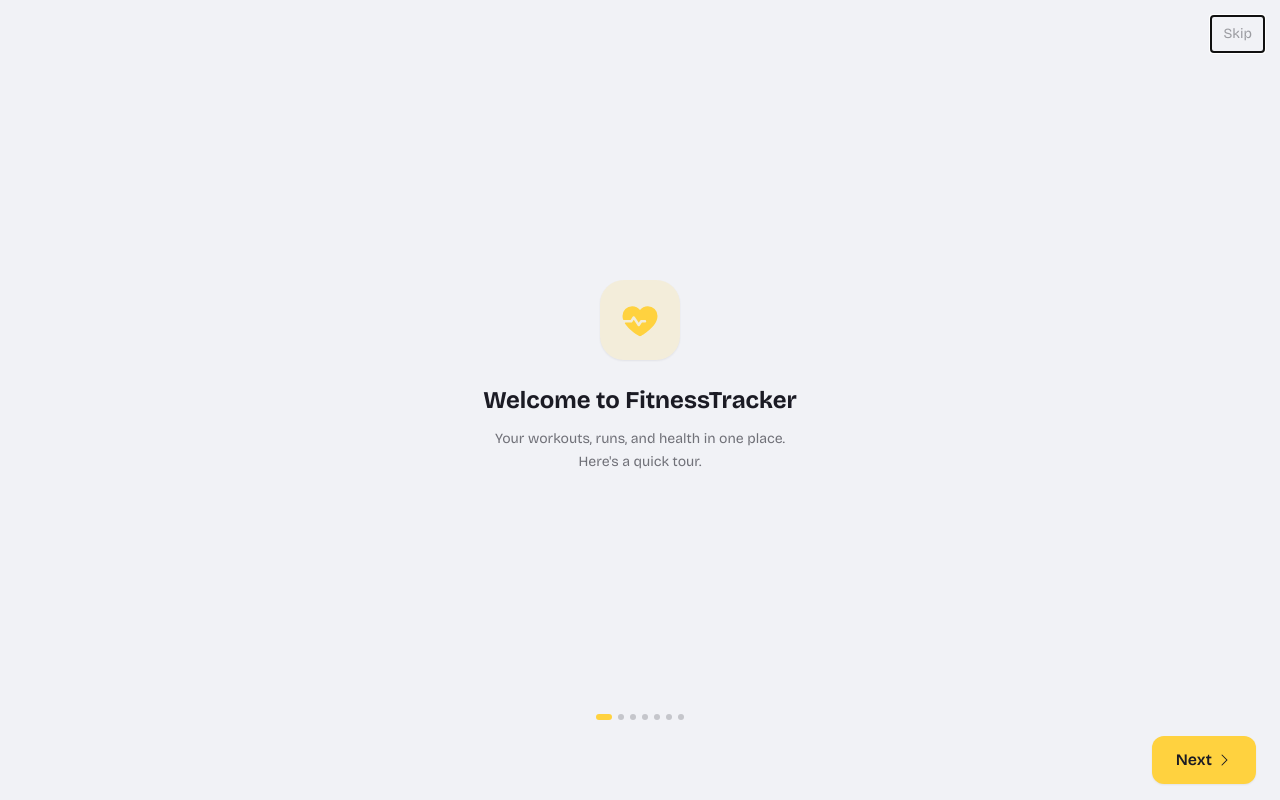
Test: Onboarding › goes back to previous slide with Back button
// Advance one slide
Click the button "Next": (1204, 760) [1152, 736, 1256, 784]
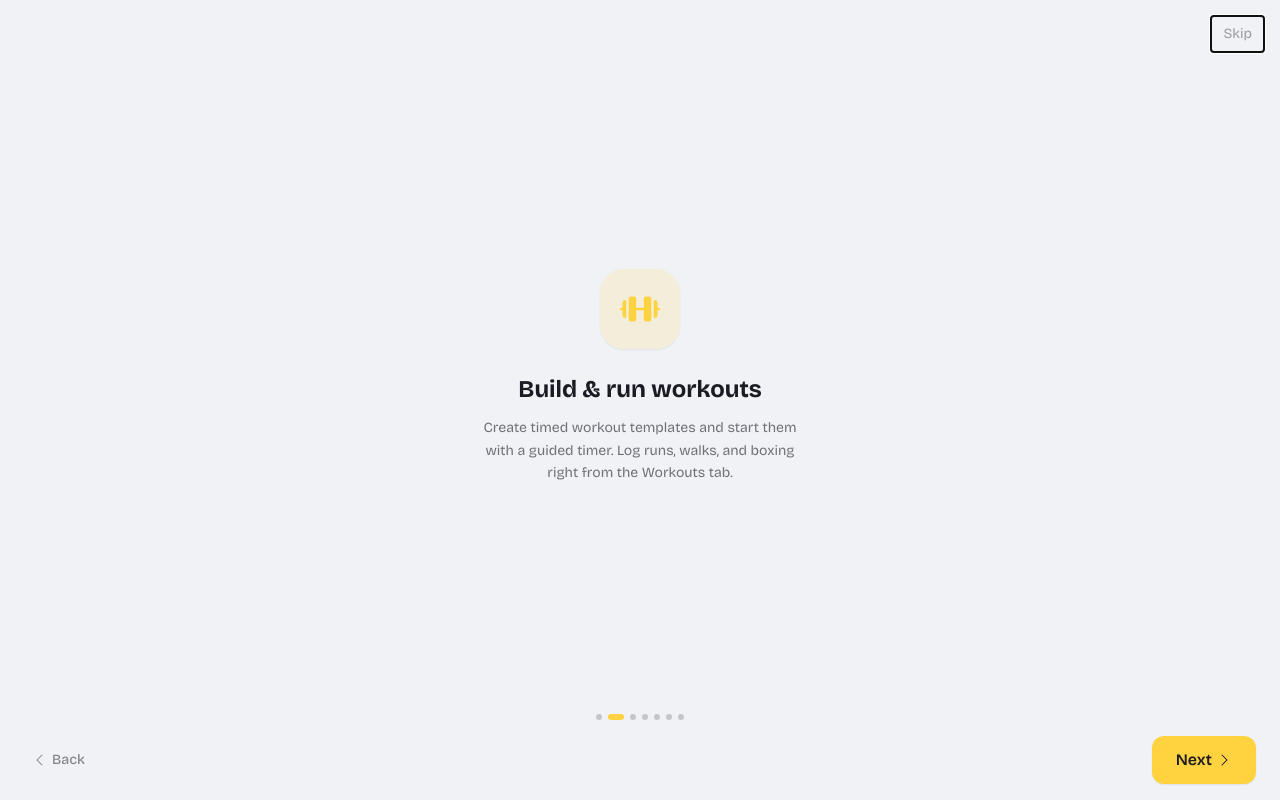
Check: the heading "Build & run workouts" is shown, box [518, 373, 762, 405]
//  Go back
Click the button "Back": (58, 760) [24, 738, 93, 782]
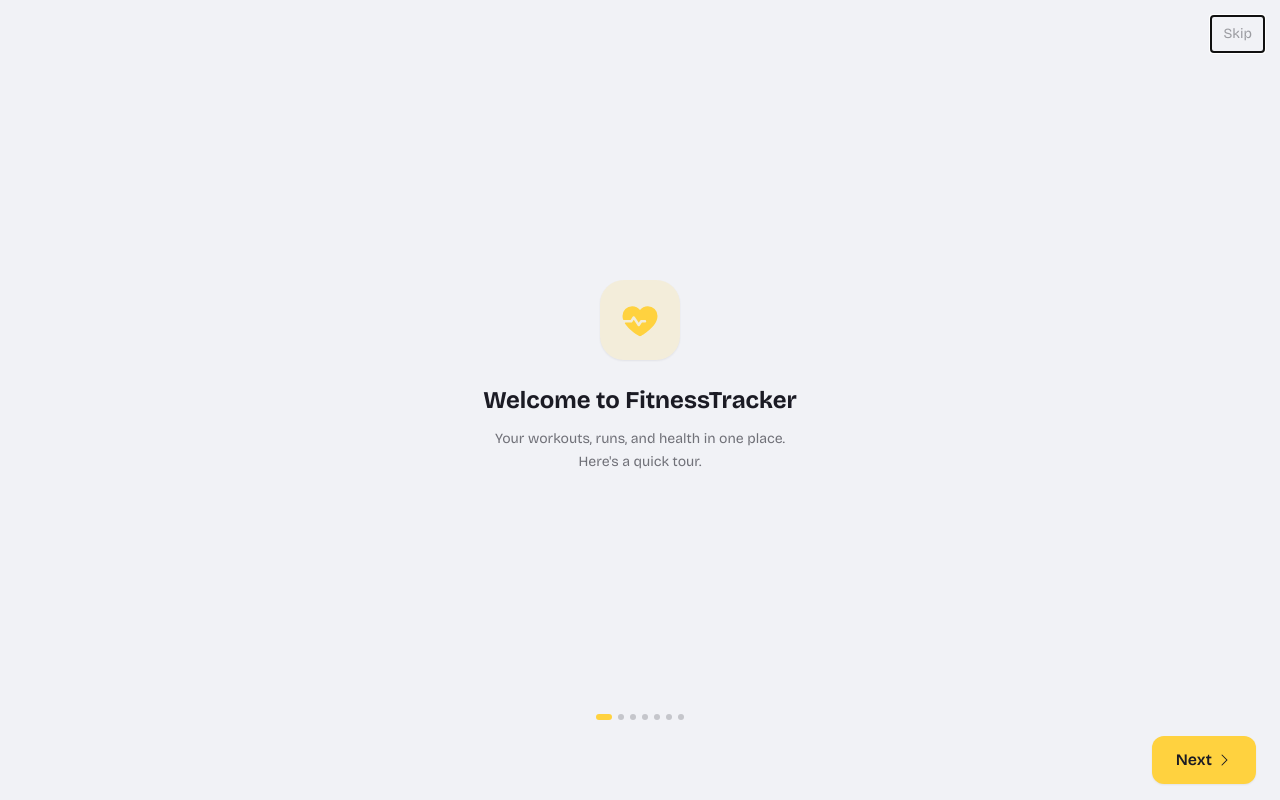
Check: the heading "Welcome to FitnessTracker" is shown, box [483, 384, 797, 416]
